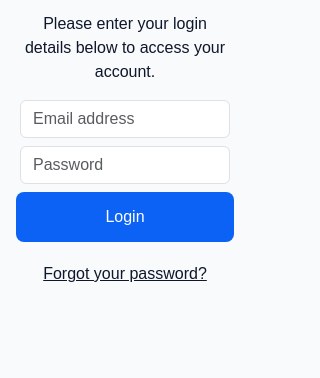
UserLogin Component › shows validation error for invalid email format
In the field with placeholder "Email address": (125,119) [20,100,230,138], type "invalid-email"
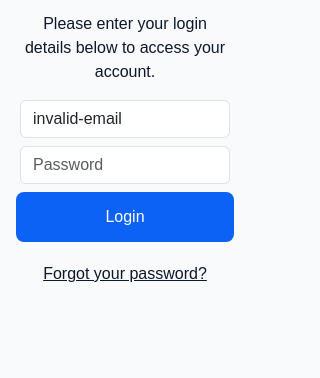
In the password field with placeholder "Password": (125,165) [20,146,230,184], type "password123"
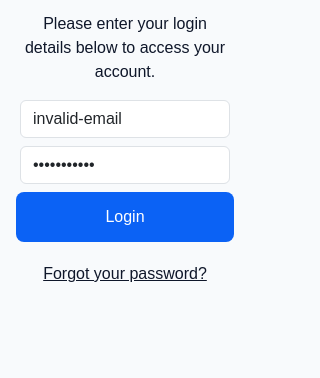
Click the button "Login": (125,217) [16,192,234,242]
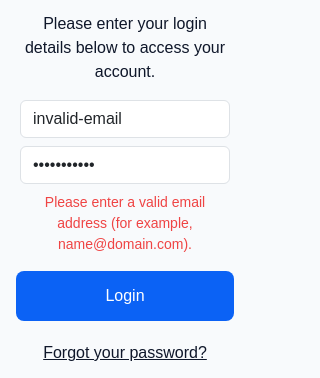
Check: the text "Please enter a valid email address" is shown, box [45,194,205,252]
